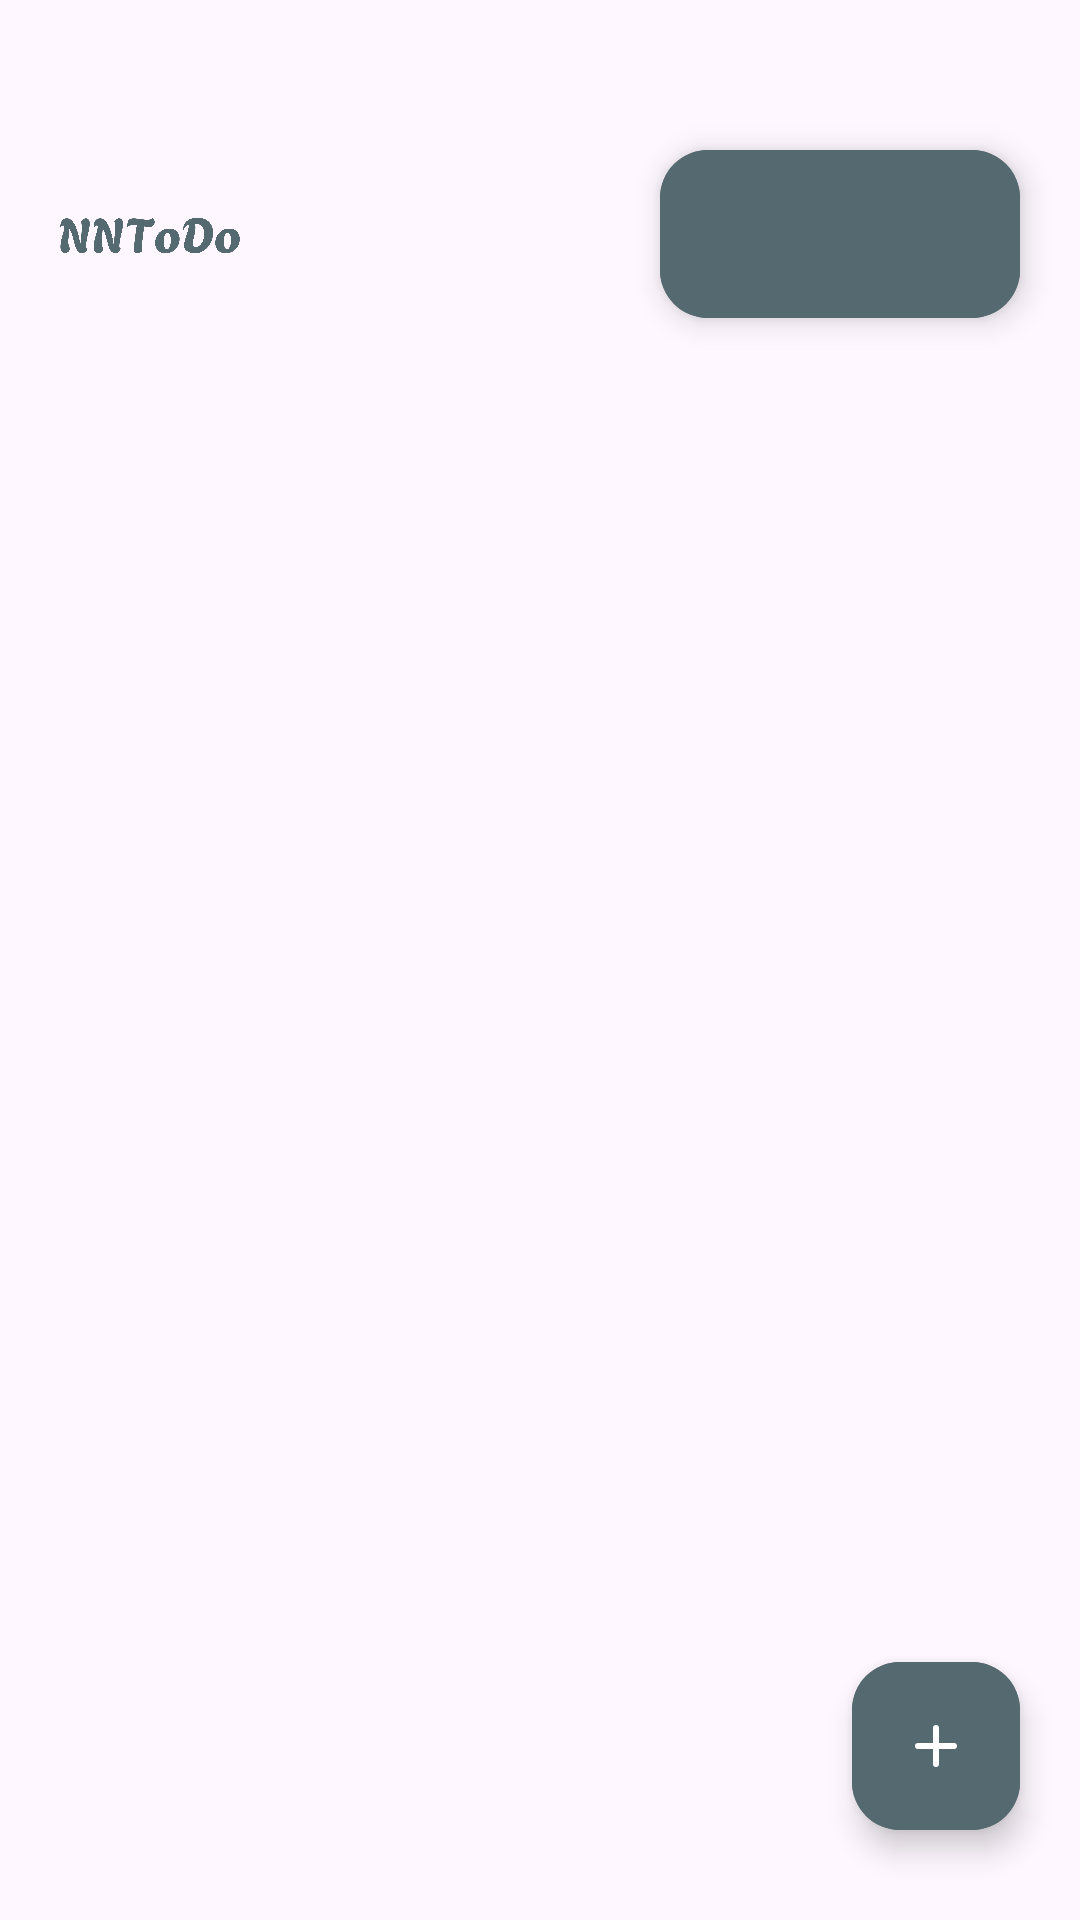

Icons on this 1080px x 1920px Android screen, each with the point to tap as [x,y]:
add plus: [936,1746]
